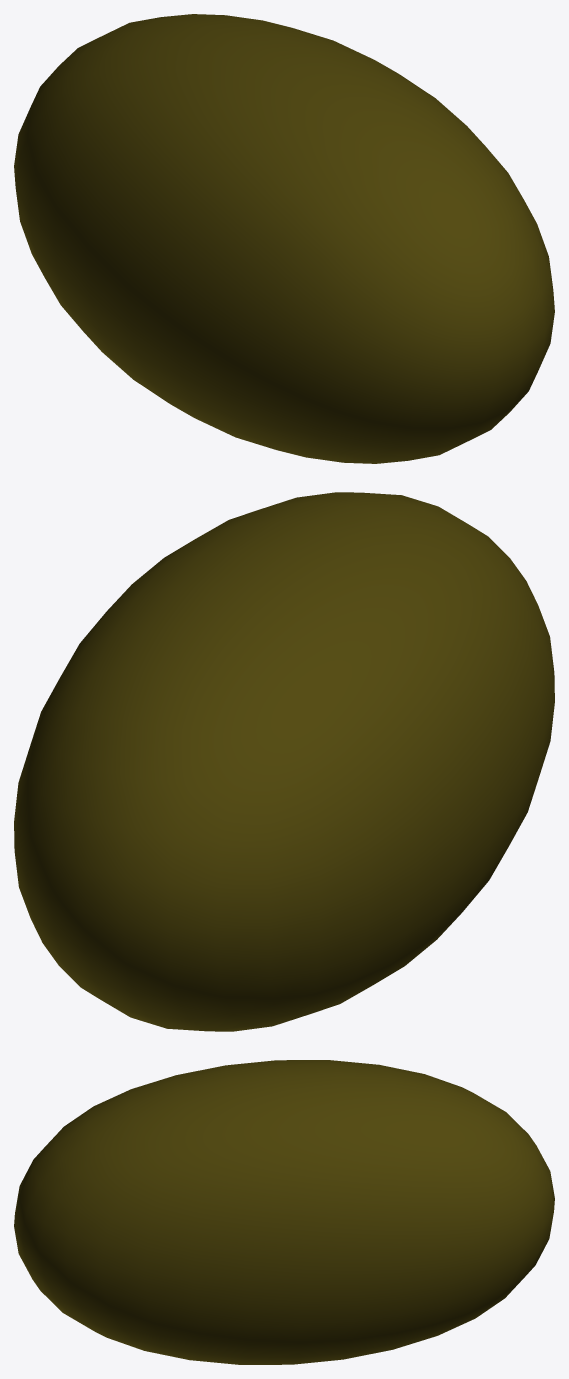
3 renders of one model, top to bottom at view 1: azimuth 30°, elevation 25°; view 2: azimuth 150°, elevation 25°; view 3: azimuth 270°, elevation 25°, orthographic. The views are drawn at different scales.
Visible parts, largest first — view 1: Cube.037; view 2: Cube.037; view 3: Cube.037.
Part boxes in pixels (left/top/right/bottom): Cube.037: left=14, top=14, right=554, bottom=463; Cube.037: left=14, top=492, right=554, bottom=1031; Cube.037: left=14, top=1060, right=554, bottom=1364.
Size of the model in its own units: 0.1961 by 0.1923 by 0.345.
